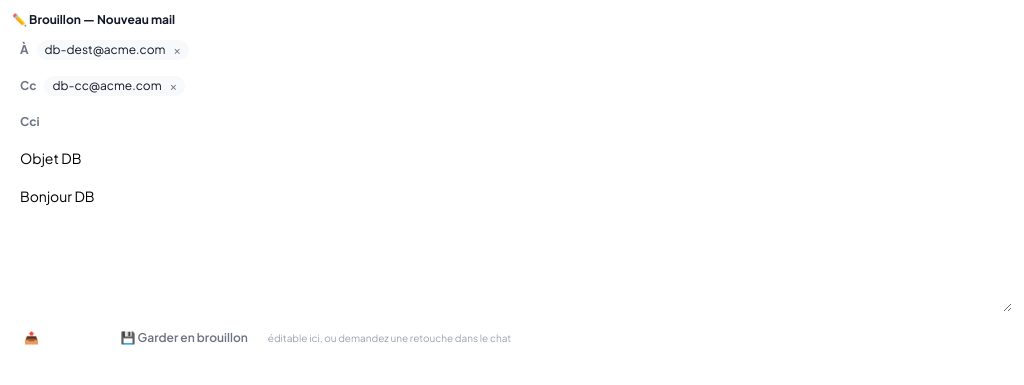
Test: MailDraftWidget › Envoyer › flush échoue (revue I1) → envoi BLOQUÉ : note d’erreur, sendMessage JAMAIS appelé
Replace the text in the field named "Objet" with "Nouvel objet". click: (512, 158)
box: [12,144,1012,172]
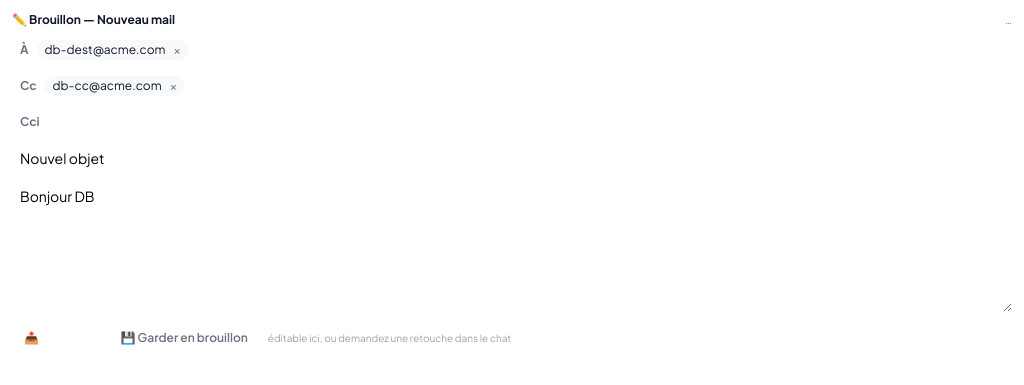
Click the button "📤 Envoyer". click: (56, 338)
box: [12,326,100,350]
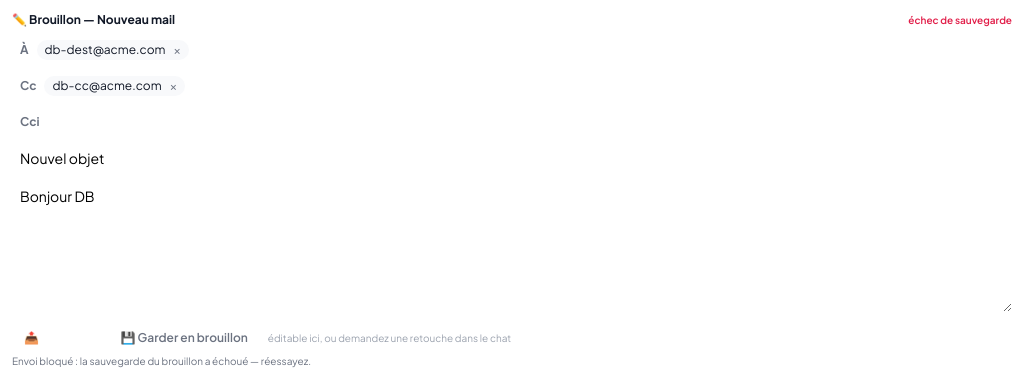
Result: the text "Envoi bloqué : la sauvegarde du brouillon a échoué — réessayez." is shown at [12,355,311,367]
